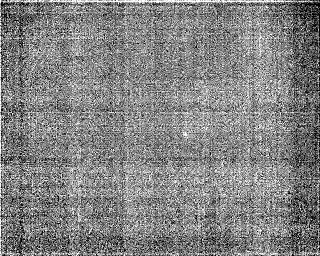AIRPLANE: (219, 158, 227, 168)
